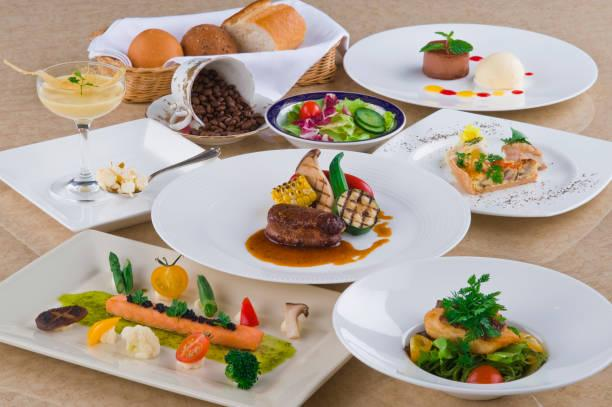Braised Crucian Carp: (0, 218, 394, 406), (150, 148, 473, 289), (333, 252, 612, 407), (363, 110, 612, 226), (346, 23, 597, 112)
